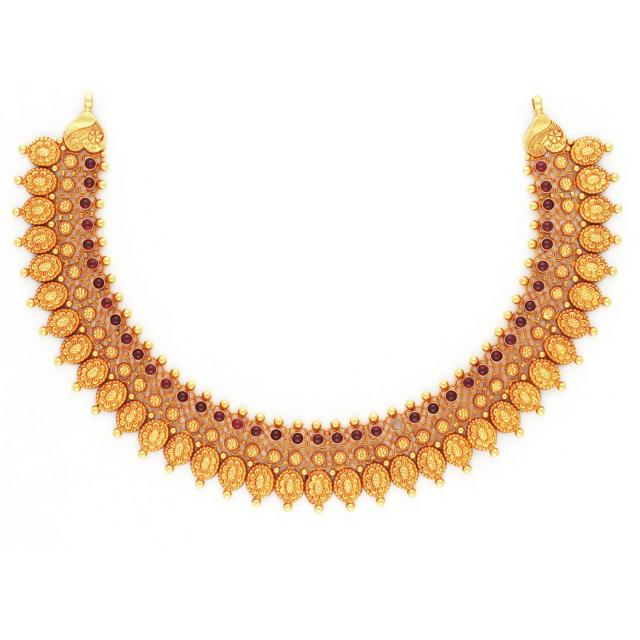missing gem: (391, 420, 401, 430)
